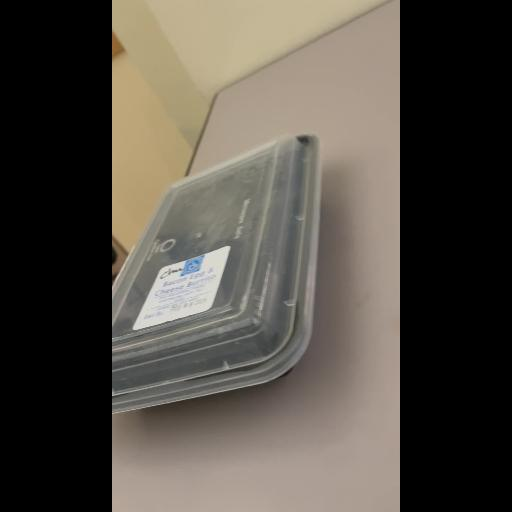rigid_plastic_container: (112, 124, 326, 416)
